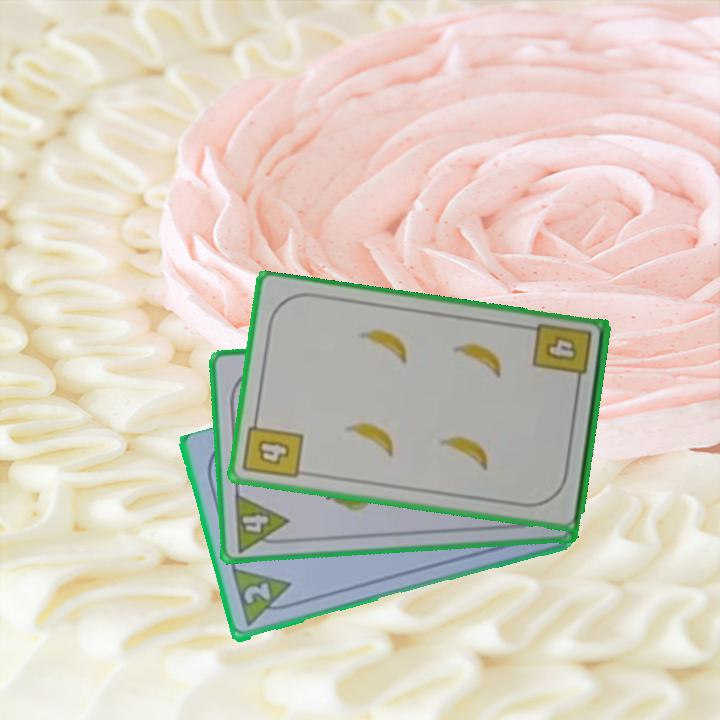2p: (228, 566, 298, 631)
4b: (529, 320, 595, 391), (240, 412, 306, 482)
4p: (230, 490, 292, 555)
